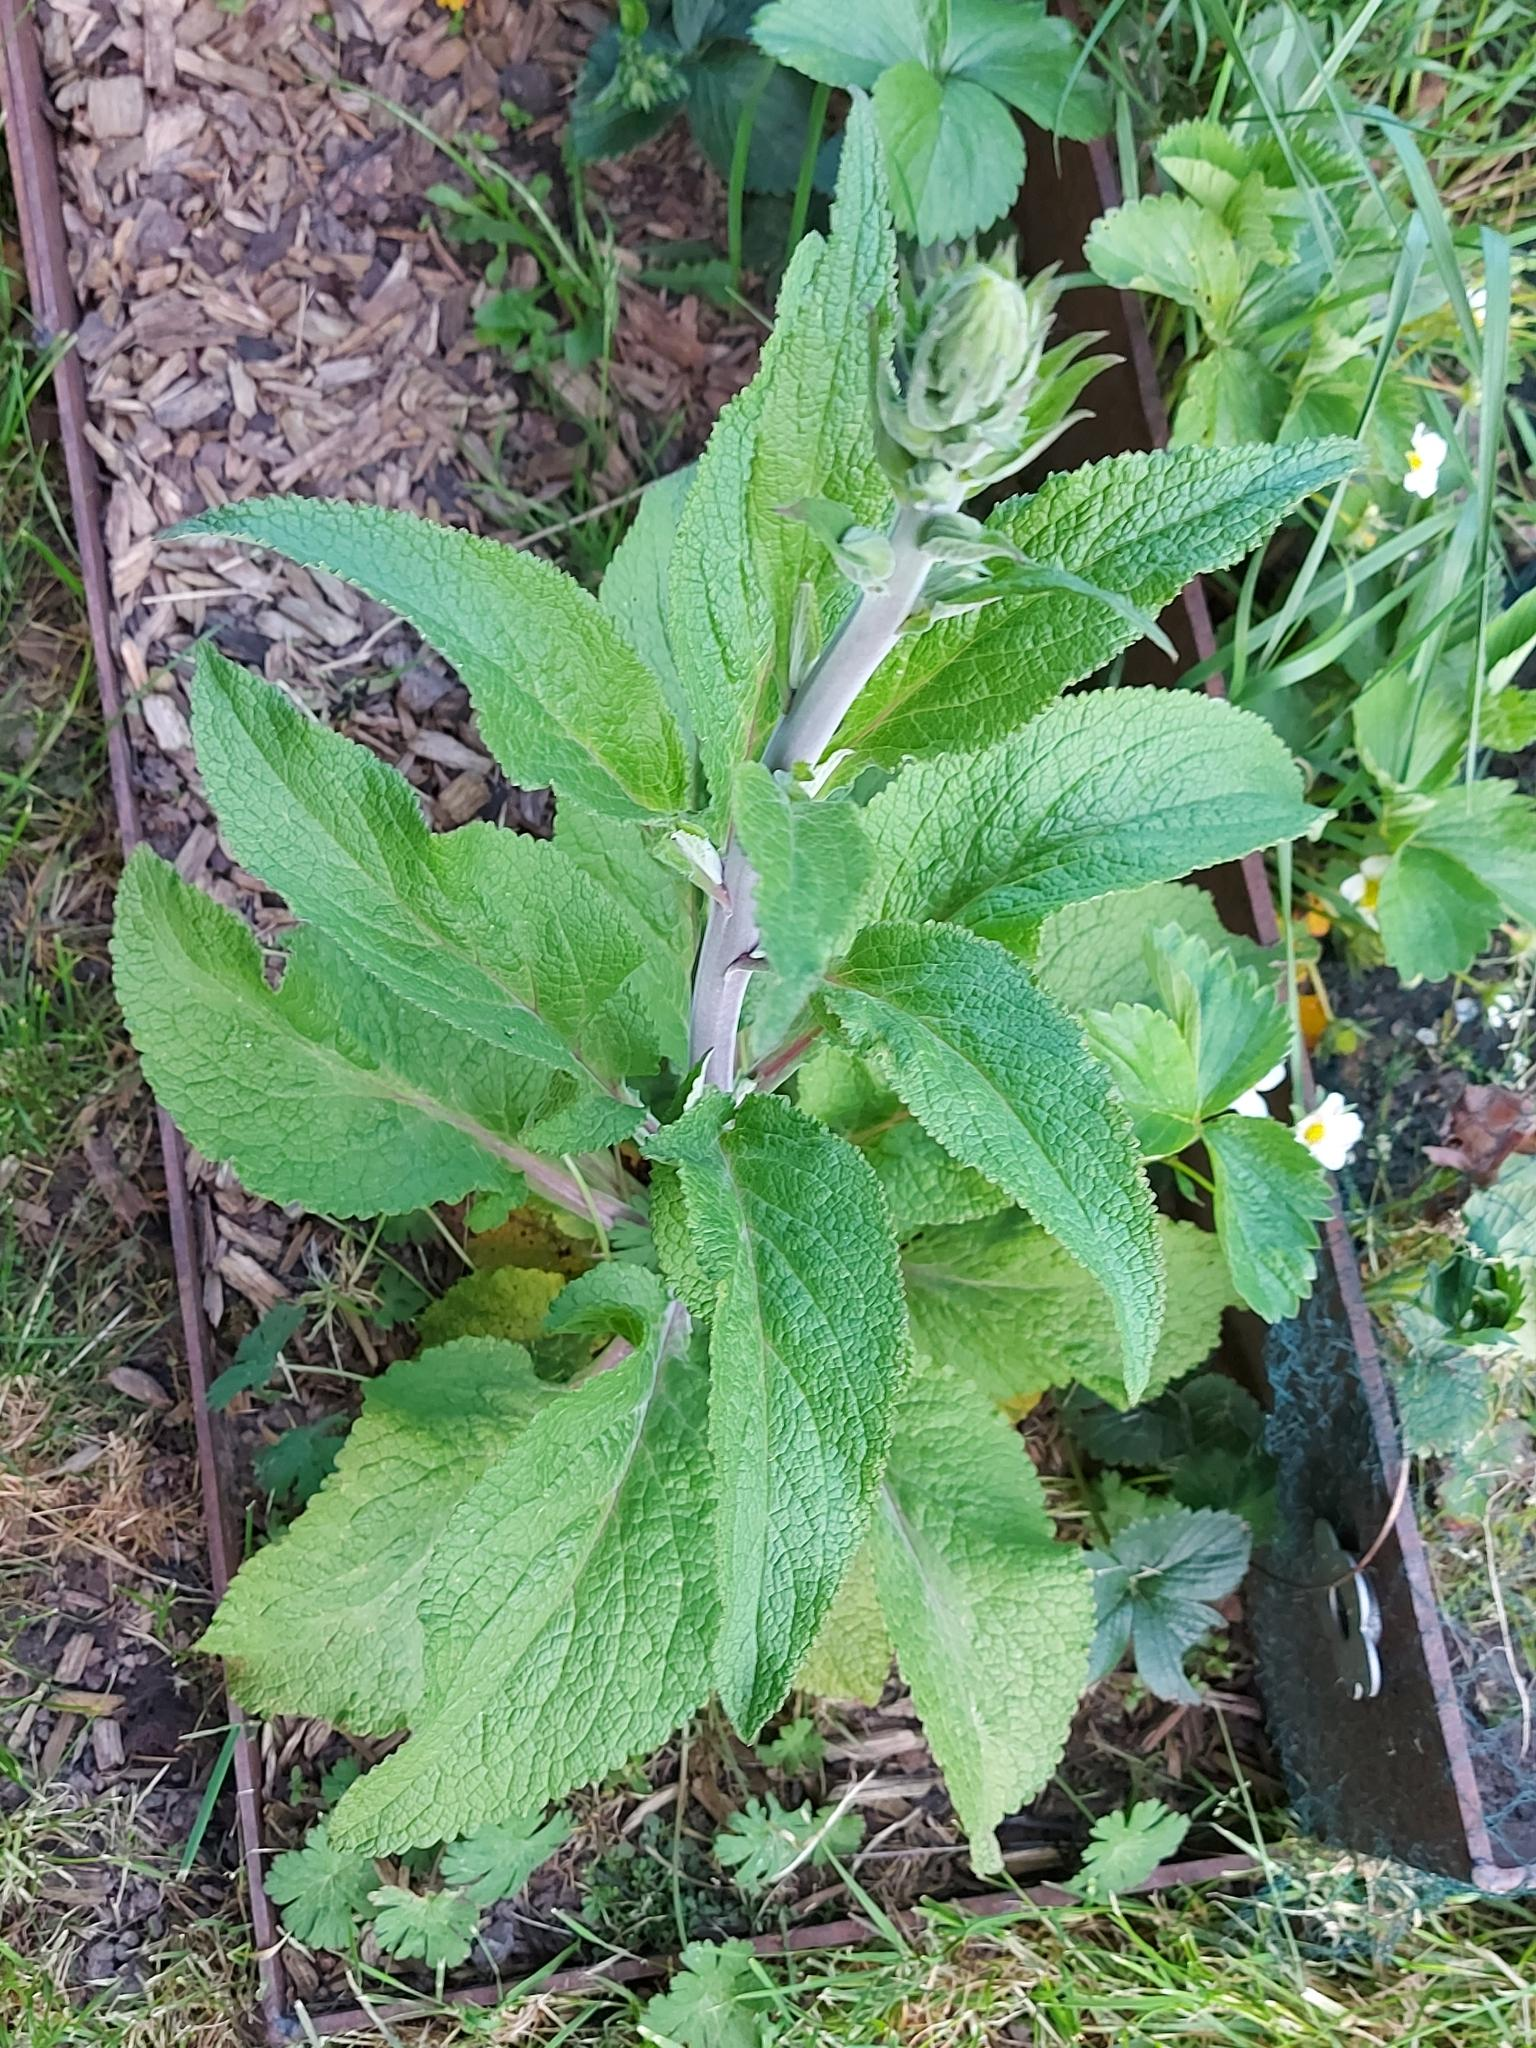Digitalis L: (153, 100, 1305, 1958)
